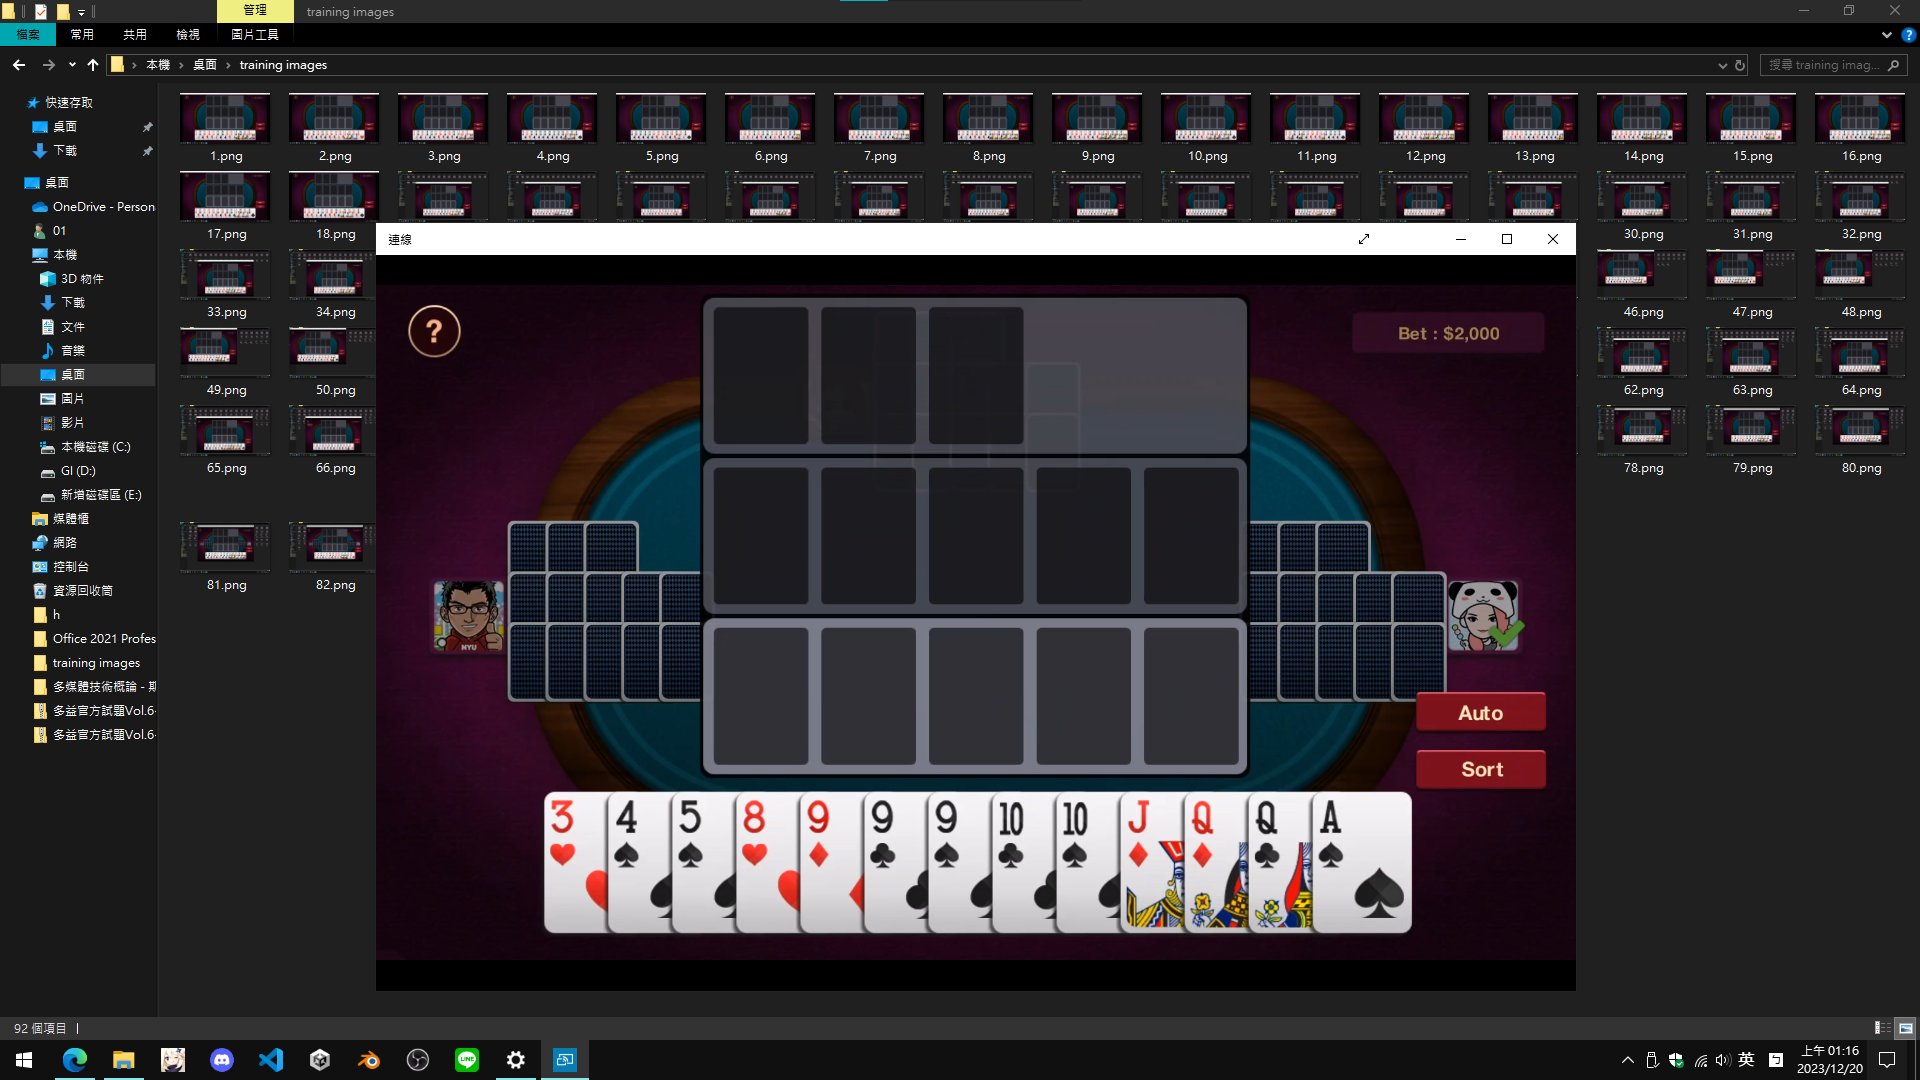10C: (997, 798, 1025, 874)
10S: (1060, 798, 1091, 877)
3H: (550, 799, 576, 869)
4S: (613, 796, 640, 873)
5S: (678, 798, 704, 873)
8H: (740, 795, 771, 866)
9C: (868, 795, 901, 874)
9D: (804, 798, 835, 876)
9S: (934, 795, 964, 876)
AS: (1316, 796, 1346, 872)
JD: (1125, 798, 1154, 873)
QC: (1251, 798, 1283, 873)
QD: (1187, 798, 1216, 872)
